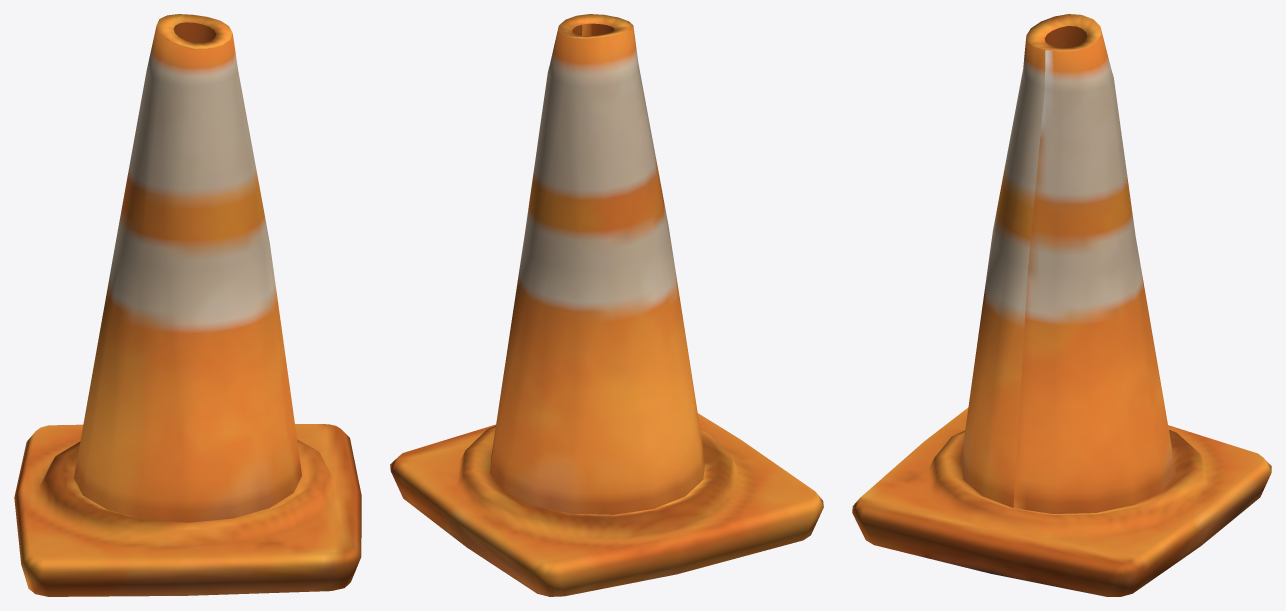
Rendered from nc_prop_cone_03.fbx.
3 renders of one model, left to right at view 1: azimuth 30°, elevation 25°; view 2: azimuth 150°, elevation 25°; view 3: azimuth 270°, elevation 25°, orthographic. The views are drawn at different scales.
Visible parts, largest first — view 1: nc_prop_cone_03_LOD0; view 2: nc_prop_cone_03_LOD0; view 3: nc_prop_cone_03_LOD0.
Boxes of the visible parts, left/top/right/bottom form: nc_prop_cone_03_LOD0: left=14, top=14, right=361, bottom=596; nc_prop_cone_03_LOD0: left=390, top=14, right=823, bottom=596; nc_prop_cone_03_LOD0: left=852, top=14, right=1271, bottom=596.
Size of what is drawn, in the model's own units: 0.4676 by 0.5907 by 0.4598.
Materials: 1 (1 with a texture image).
